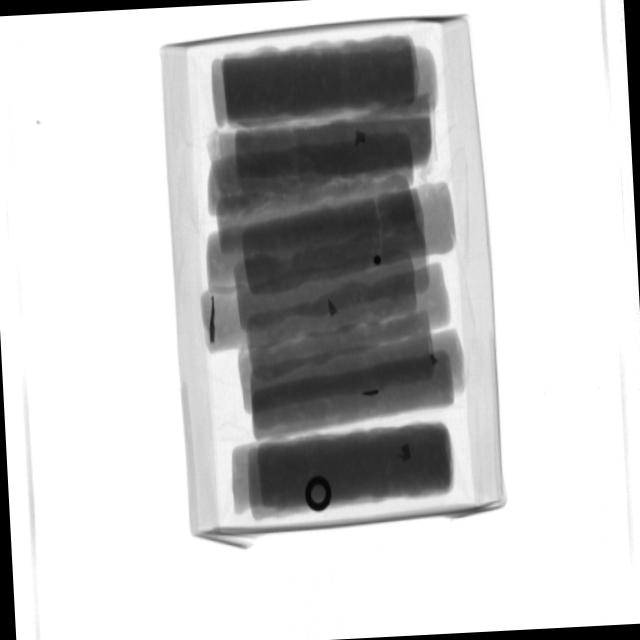ym: (306, 477, 334, 513), (207, 297, 218, 345), (354, 127, 368, 148), (399, 443, 412, 465), (328, 297, 339, 319), (363, 388, 381, 400), (430, 350, 438, 367), (375, 255, 384, 265)
